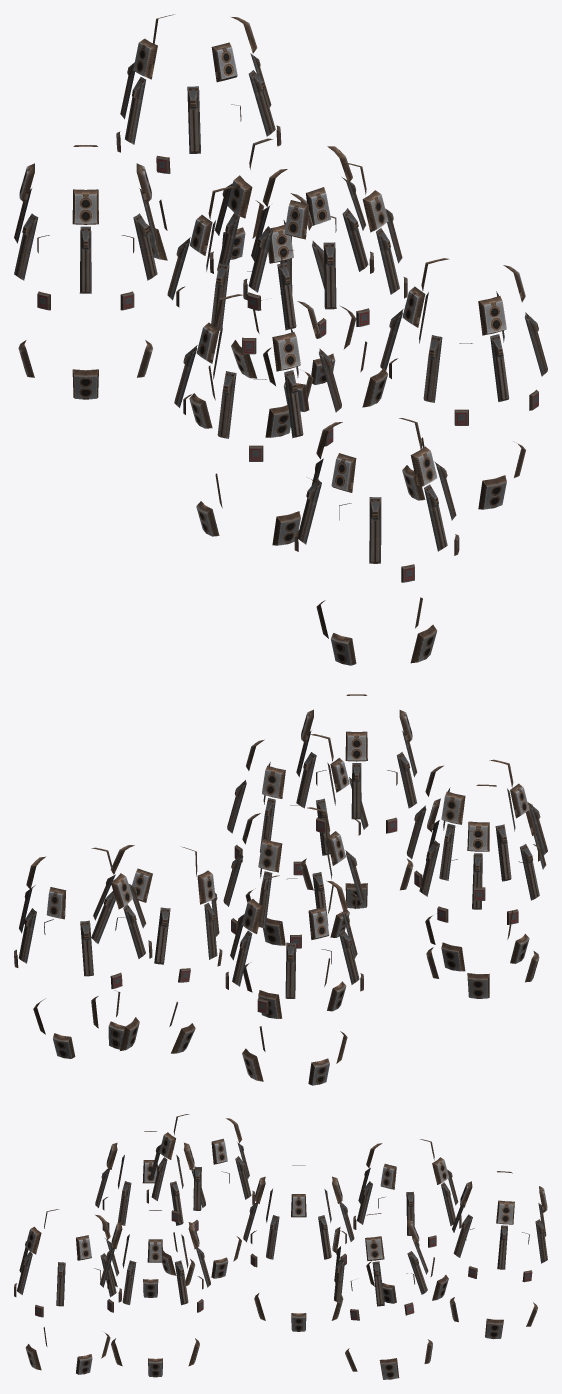
Rendered from prop_static_yao_container_01_06.glb.
3 views of the same model, one above another, from view 1: azimuth 30°, elevation 25°; view 2: azimuth 150°, elevation 25°; view 3: azimuth 270°, elevation 25° (orthographic). The views are drawn at different scales.
Visible parts, largest first — view 1: yao_container_01_06_LOD0; view 2: yao_container_01_06_LOD0; view 3: yao_container_01_06_LOD0.
Boxes of the visible parts, box(x1,y1,x2,y2) form: yao_container_01_06_LOD0: box(14, 14, 547, 665); yao_container_01_06_LOD0: box(14, 694, 547, 1085); yao_container_01_06_LOD0: box(14, 1114, 547, 1379).
Size of what is drawn, in the model's own units: 4.91 by 5.18 by 10.04.
1 material, 1 textured.
